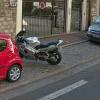Motorcycle: (12, 22, 73, 73)
